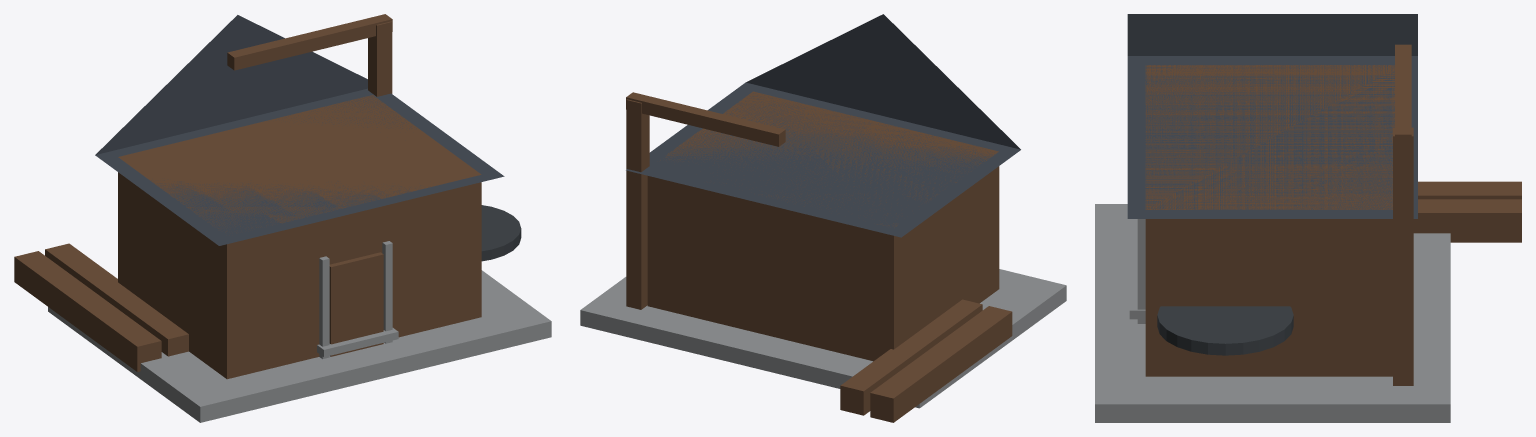
Rendered from lumber_camp.glb.
3 renders of one model, left to right at view 1: azimuth 30°, elevation 25°; view 2: azimuth 150°, elevation 25°; view 3: azimuth 270°, elevation 25°, orthographic. The views are drawn at different scales.
Visible parts, largest first — view 1: MillWalls, MillRoof, MillFoundation, Door, Log0, CraneArm, Log6, Log7, SawWheel, CraneBeam, Log1, Log2 (+5 smaller); view 2: MillWalls, MillRoof, MillFoundation, CraneBeam, Log6, CraneArm, Log1, Log0, Log4, Log2, Log7; view 3: MillWalls, MillRoof, MillFoundation, SawWheel, CraneBeam, Log1, Log0, CraneArm, Log3, DoorFrameR, Threshold, Log2.
Part boxes in pixels (x1,y1,x2,y2): MillWalls: (118, 95, 481, 379); MillRoof: (95, 15, 504, 245); MillFoundation: (48, 270, 551, 422); Door: (329, 252, 383, 356); Log0: (14, 251, 118, 341); CraneArm: (227, 14, 392, 70); Log6: (57, 288, 161, 371); Log7: (87, 275, 188, 356); SawWheel: (481, 205, 521, 261); CraneBeam: (368, 21, 392, 96); Log1: (45, 243, 118, 302); Log2: (28, 264, 109, 348); MillWalls: (647, 91, 999, 361); MillRoof: (626, 14, 1020, 237); MillFoundation: (580, 269, 1066, 408); CraneBeam: (626, 99, 649, 309); Log6: (914, 306, 1012, 392); CraneArm: (626, 92, 785, 146); Log1: (840, 329, 942, 415); Log0: (870, 336, 971, 422); Log4: (902, 317, 996, 396); Log2: (885, 325, 982, 388); Log7: (923, 299, 982, 339); MillWalls: (1145, 65, 1394, 376); MillRoof: (1127, 14, 1417, 218); MillFoundation: (1095, 204, 1450, 422); SawWheel: (1157, 306, 1293, 355); CraneBeam: (1393, 127, 1413, 385); Log1: (1413, 199, 1521, 242); Log0: (1418, 181, 1521, 199); CraneArm: (1395, 44, 1411, 149); Log3: (1413, 199, 1489, 242); DoorFrameR: (1137, 219, 1145, 323); Threshold: (1129, 268, 1145, 319); Log2: (1418, 182, 1489, 199).
Bounding box in the file's own units: 8.47 × 5.75 × 7.2.
